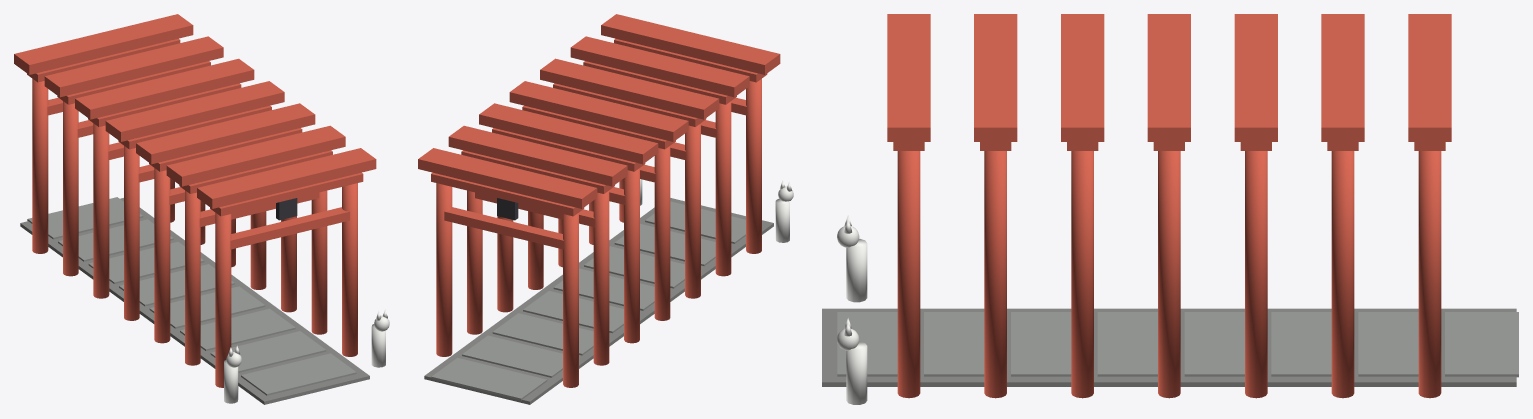
The model's file is prop_senbon_torii.glb.
The picture shows the model from 3 angles, left to right: view 1: azimuth 30°, elevation 25°; view 2: azimuth 150°, elevation 25°; view 3: azimuth 270°, elevation 25°; orthographic projection. The views are drawn at different scales.
Visible parts, largest first — view 1: senbon_torii; view 2: senbon_torii; view 3: senbon_torii.
Boxes of the visible parts, x1,y1,x2,y2 form: senbon_torii: (14, 14, 389, 404); senbon_torii: (418, 14, 793, 404); senbon_torii: (822, 14, 1518, 404).
Size of the model in its own units: 3.1 by 3.55 by 8.03.
